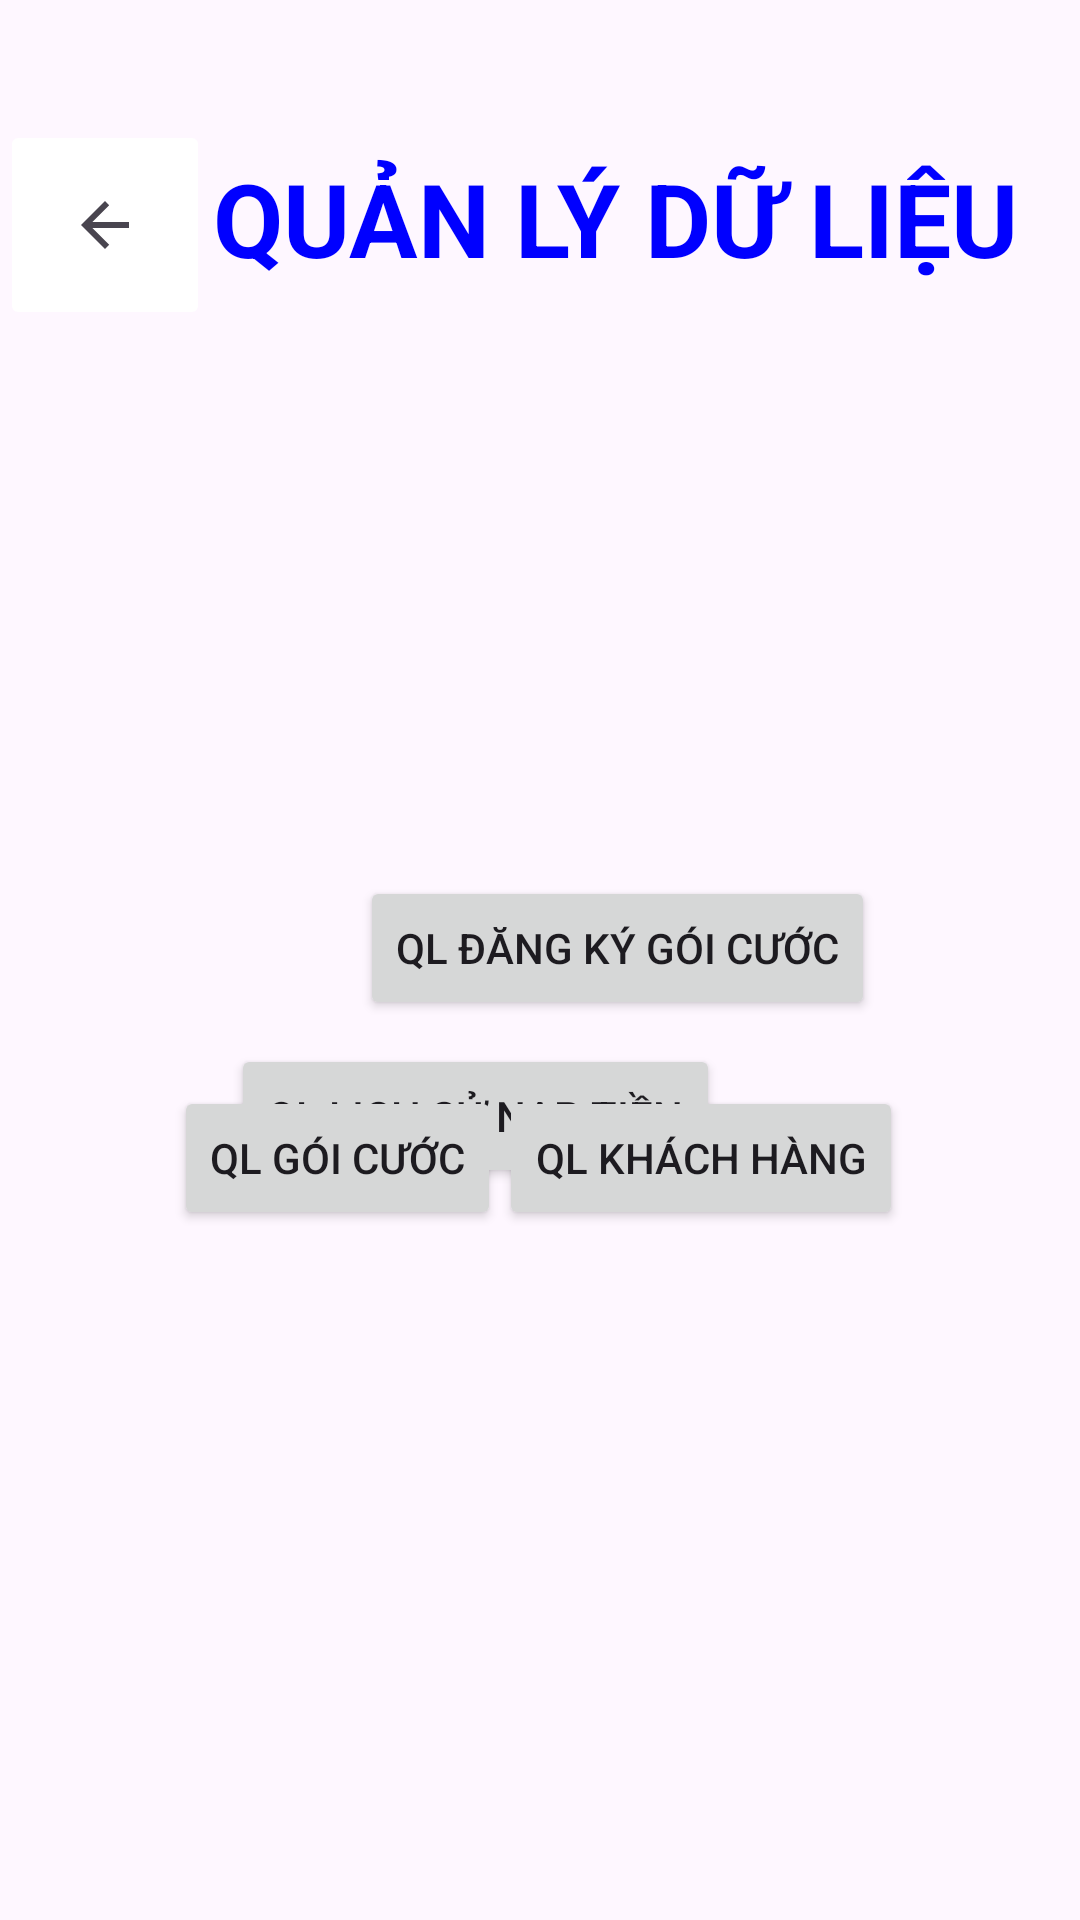

Locate icon controls on the screen. Image size 1080x1920, boxes as [x1=x1, y1=y1, x2=x2, y2=y2].
Nút quay lại: [x1=81, y1=201, x2=129, y2=249]
